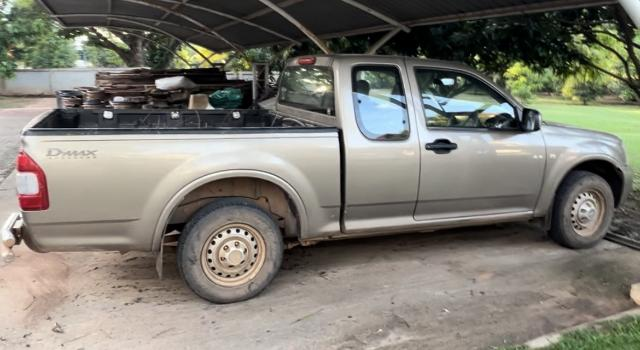pickup-truck: (9, 52, 630, 306)
